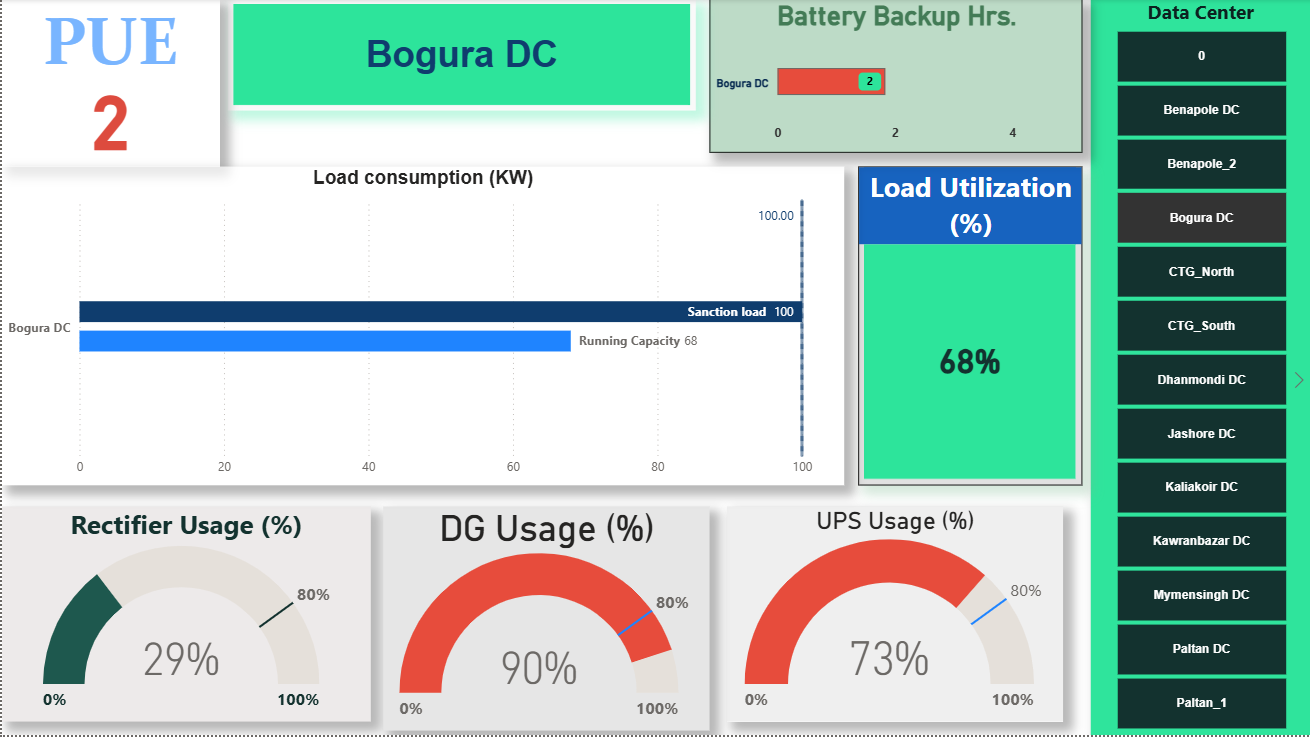

The page's visual inventory and layout, read from the dashboard file:
{"tool":"powerbi","page":{"name":"Page 1","canvas":[1280,720],"ordinal":0},"visuals":[{"type":"slicer","title":"Data Center","fields":{"Values":["Sheet1.Data Center Location"]},"box":[1065.1,0,215.2,720.2],"z":0},{"type":"gauge","title":"Rectifier Usage (%)","fields":{"Y":["Sum(Sheet1.Rectifer Usage (%))"]},"box":[0,496.5,360.7,210.3],"z":1000},{"type":"advanceCardE03760C5AB684758B56AA29F9E6C257B","title":"PUE","fields":{"mainMeasure":["Sum(Sheet1.PUE )"]},"box":[0,0,212.8,163.9],"z":2000},{"type":"advanceCardE03760C5AB684758B56AA29F9E6C257B","title":"Load Utilization (%)","fields":{"mainMeasure":["Sheet1.Load Consumption (%)"]},"box":[837.6,163.9,218.9,311.8],"z":3000},{"type":"gauge","fields":{"Y":["Sheet1.DG Usage (%)"]},"box":[373,496.5,319.2,218.9],"z":4000},{"type":"gauge","fields":{"Y":["Sum(Sheet1.UPS Usage (%))"]},"box":[709.2,496.5,328.9,210.3],"z":5000},{"type":"clusteredBarChart","title":"Battery Backup Hrs.","fields":{"Category":["Sheet1.Data Center Location"],"Y":["Sum(Sheet1.Battery Backup hrs. )"]},"box":[692.1,0,364.4,150.4],"z":6000},{"type":"clusteredBarChart","title":"Load consumption (KW) ","fields":{"Y":["Sum(Sheet1.Sanction load )","Sum(Sheet1.Running Capacity)"],"Category":["Sheet1.Data Center Location"]},"box":[0,163.9,824.2,311.8],"z":6001},{"type":"advanceCardE03760C5AB684758B56AA29F9E6C257B","fields":{"mainMeasure":["Min(Sheet1.Data Center Location)"]},"box":[221.3,0,457.3,108.8],"z":6002}]}

Visuals, with their boxes in screenshot pixels (x1, y1, x2, y2), scaled from the page's 1280x720 canvas onto the 1310x737 screenshot:
"Data Center" slicer: Rect(1090, 0, 1309, 736)
"Rectifier Usage (%)" gauge: Rect(0, 508, 369, 723)
"PUE" advanceCardE03760C5AB684758B56AA29F9E6C257B: Rect(0, 0, 218, 168)
"Load Utilization (%)" advanceCardE03760C5AB684758B56AA29F9E6C257B: Rect(857, 168, 1081, 487)
gauge - Sheet1.DG Usage (%): Rect(382, 508, 708, 732)
gauge - Sum(Sheet1.UPS Usage (%)): Rect(726, 508, 1062, 723)
"Battery Backup Hrs." clusteredBarChart: Rect(708, 0, 1081, 154)
"Load consumption (KW) " clusteredBarChart: Rect(0, 168, 844, 487)
advanceCardE03760C5AB684758B56AA29F9E6C257B - Min(Sheet1.Data Center Location): Rect(226, 0, 695, 111)
